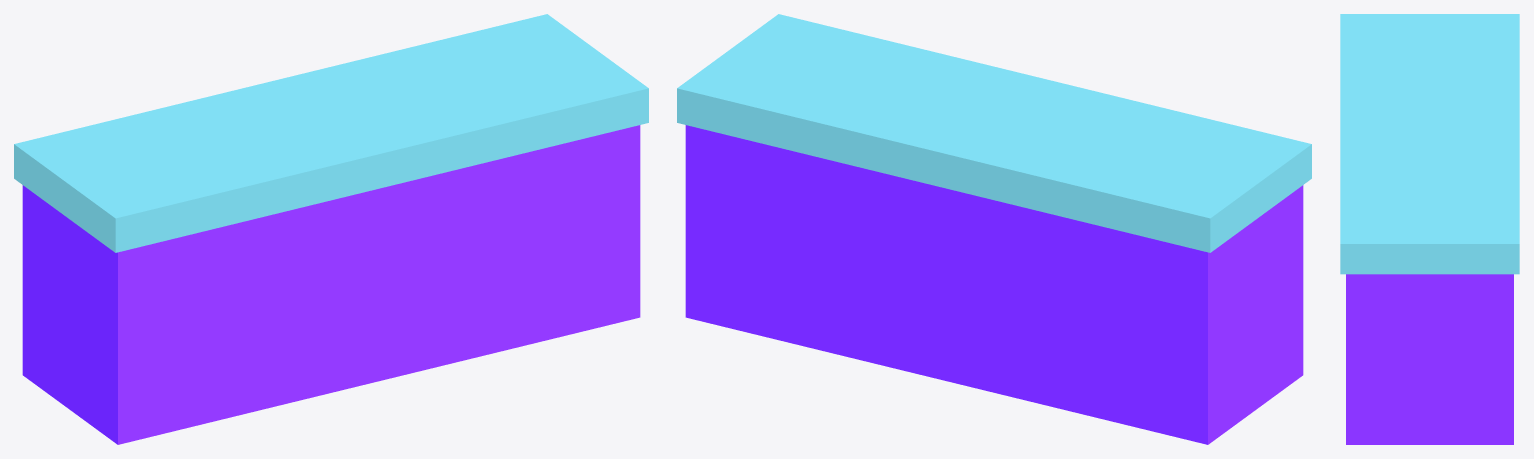
Rendered from jump-barrier.glb.
3 views of the same model, side by side, from view 1: azimuth 30°, elevation 25°; view 2: azimuth 150°, elevation 25°; view 3: azimuth 270°, elevation 25° (orthographic). The views are drawn at different scales.
Parts seen in each view (by area): view 1: cosmic jump-barrier; view 2: cosmic jump-barrier; view 3: cosmic jump-barrier.
Part boxes in pixels (x1=…): cosmic jump-barrier: x1=14, y1=14, x2=648, y2=444; cosmic jump-barrier: x1=677, y1=14, x2=1311, y2=444; cosmic jump-barrier: x1=1340, y1=14, x2=1519, y2=444.
Bounding box in the file's own units: 1.94 × 0.8 × 0.64.
